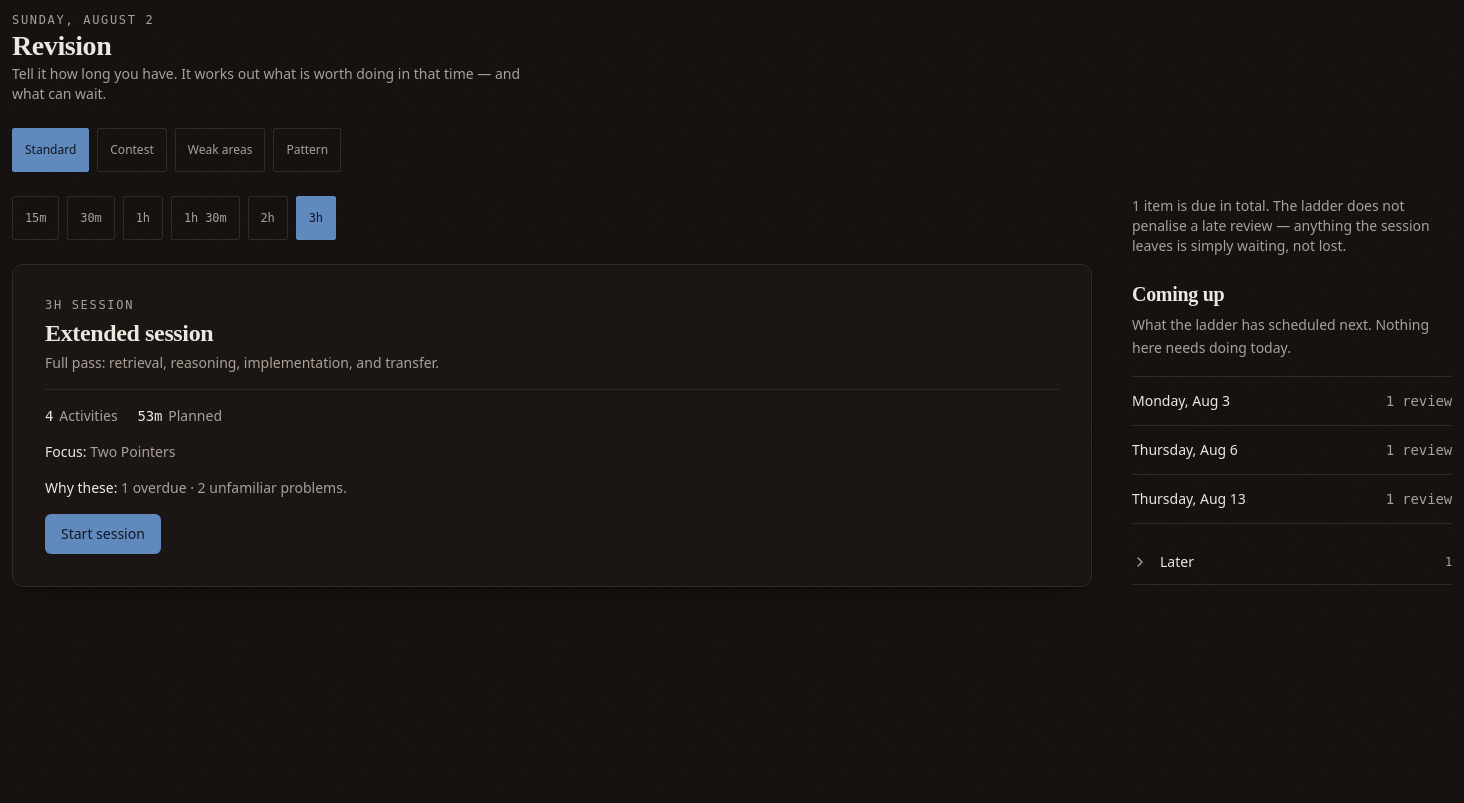
Test case: RevisionPage — running a session › a due question appears as an activity carrying its own reason
This screenshot has width=1464, height=803.
Click the button "Start session" at x=103, y=534, box [45, 514, 161, 554]
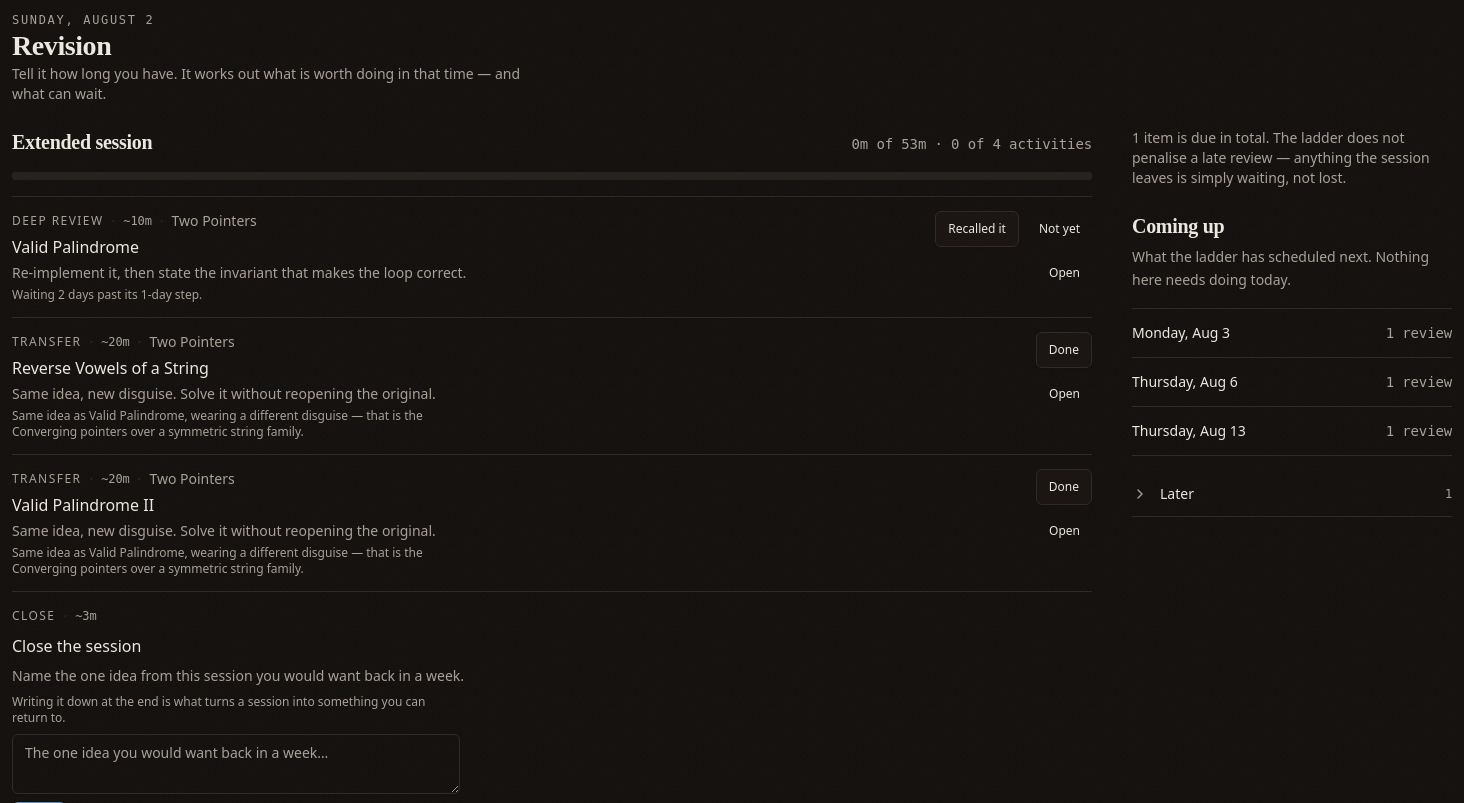
Expected: the text "Valid Palindrome" is shown, [12, 236, 139, 258]
Expected: the text "Waiting 2 days past its 1-day step." is shown, [12, 286, 202, 303]
